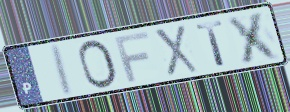F: (112, 30, 152, 84)
I: (50, 41, 76, 99)
O: (77, 38, 121, 92)
T: (194, 18, 228, 68)
X: (224, 9, 284, 66), (151, 23, 201, 78)
